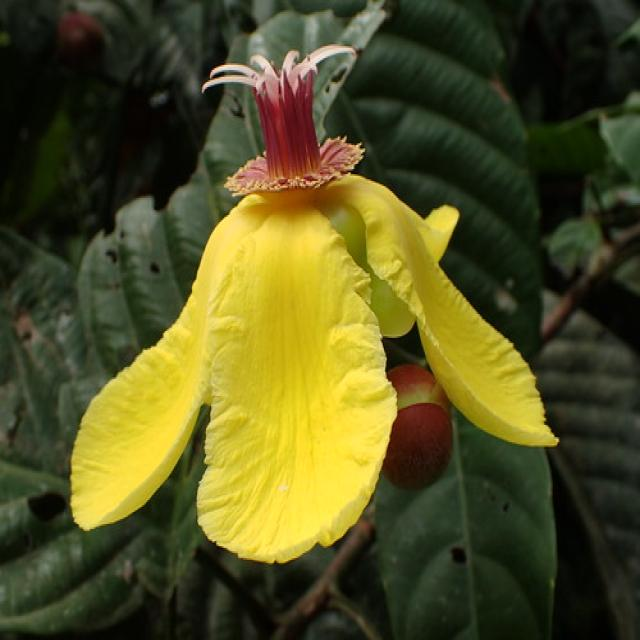Simpoh-Lak: (64, 14, 573, 578), (378, 360, 458, 490)
